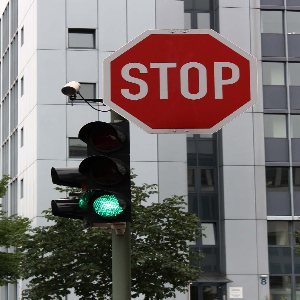STOP_SIGN: (102, 29, 258, 135)
